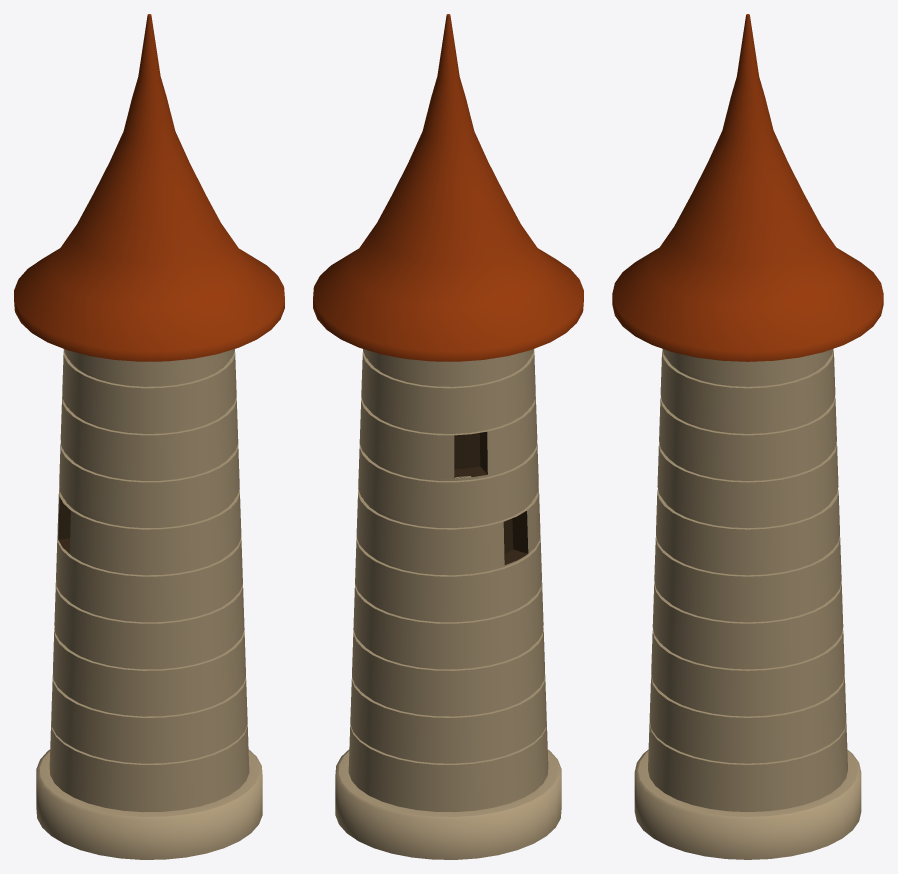
File: grande-tour.fbx
3 views of the same model, side by side, from view 1: azimuth 30°, elevation 25°; view 2: azimuth 150°, elevation 25°; view 3: azimuth 270°, elevation 25° (orthographic).
Parts seen in each view (by area): view 1: Tour; view 2: Tour; view 3: Tour.
Boxes of the visible parts, x1,y1,x2,y2 form: Tour: (14, 14, 284, 859); Tour: (313, 14, 583, 859); Tour: (612, 14, 883, 859).
Bounding box in the file's own units: 553 × 1791 × 553.
